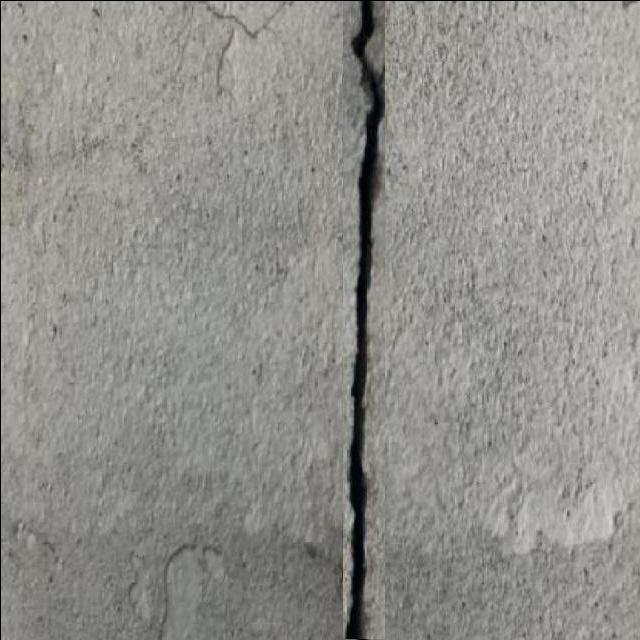crack: (340, 0, 386, 639)
